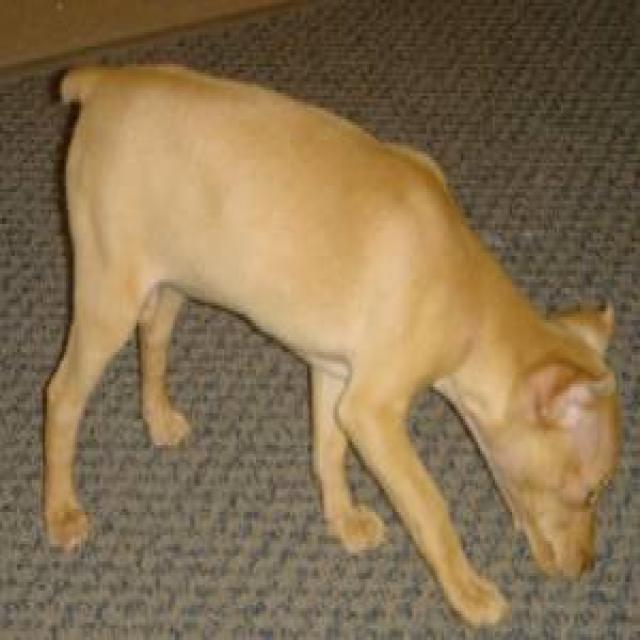dog-miniature_pinscher: (26, 58, 634, 634)
